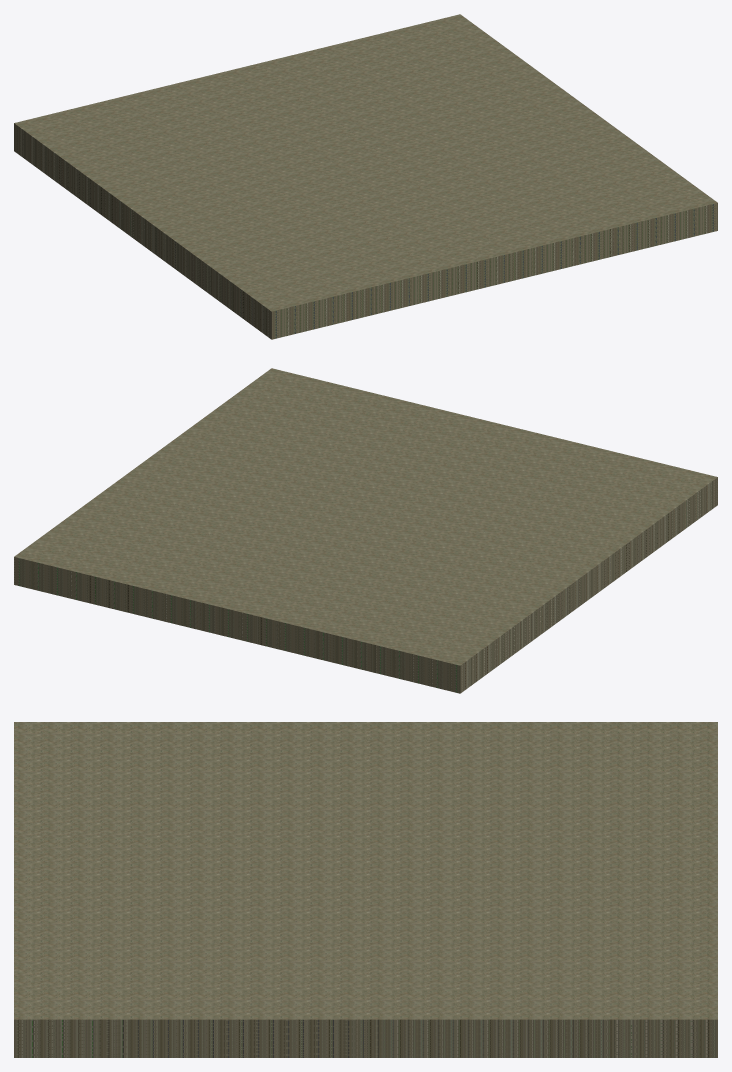
The model's file is ShootingRange_Demo.glb.
3 views of the same model, one above another, from view 1: azimuth 30°, elevation 25°; view 2: azimuth 150°, elevation 25°; view 3: azimuth 270°, elevation 25° (orthographic). The views are drawn at different scales.
Parts seen in each view (by area): view 1: Plane.003; view 2: Plane.003; view 3: Plane.003.
Part boxes in pixels (box(x1,y1,x2,y2)): Plane.003: box(14, 14, 717, 339); Plane.003: box(14, 368, 717, 693); Plane.003: box(14, 722, 717, 1057).
Bounding box in the file's own units: 139 × 8.35 × 139.
1 material, 1 textured.
